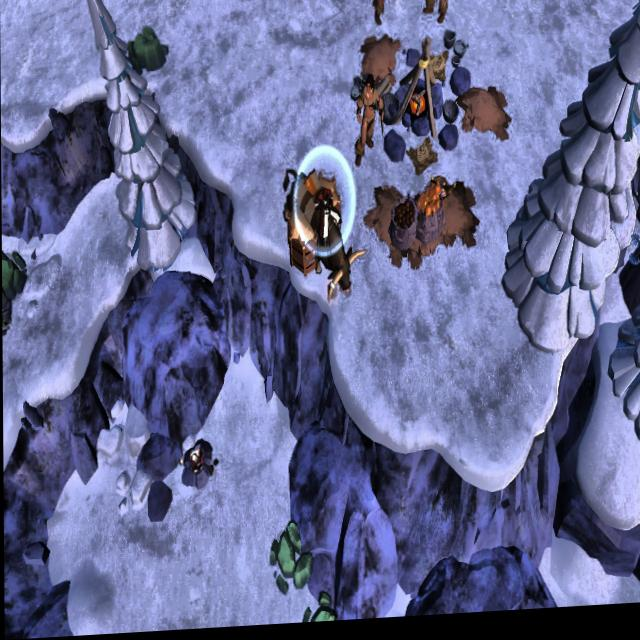enemy_factionKeeper: (355, 72, 389, 170), (422, 0, 455, 30), (371, 0, 395, 36)
rock_t3: (268, 519, 315, 601), (126, 23, 170, 81), (2, 240, 29, 316), (301, 594, 335, 626)
